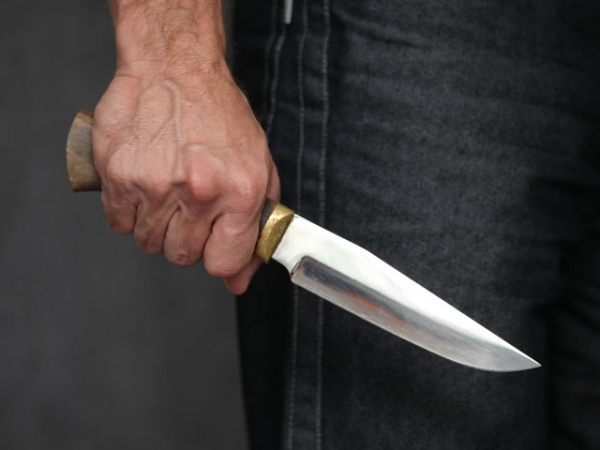knife: (134, 152, 554, 388)
